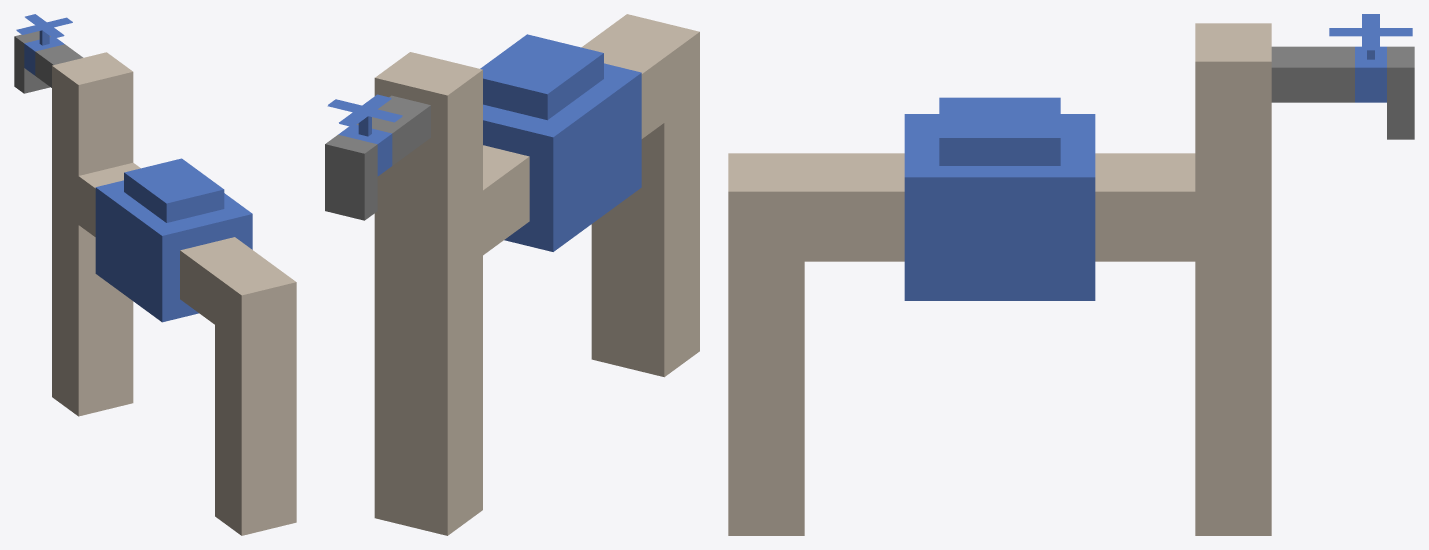
The model's file is tap.fbx.
3 renders of one model, left to right at view 1: azimuth 30°, elevation 25°; view 2: azimuth 150°, elevation 25°; view 3: azimuth 270°, elevation 25°, orthographic. The views are drawn at different scales.
Visible parts, largest first — view 1: tap; view 2: tap; view 3: tap.
Boxes of the visible parts, x1,y1,x2,y2 form: tap: (14,14,296,535); tap: (325,14,699,535); tap: (728,14,1414,535).
Bounding box in the file's own units: 33.08 × 118 × 152.
